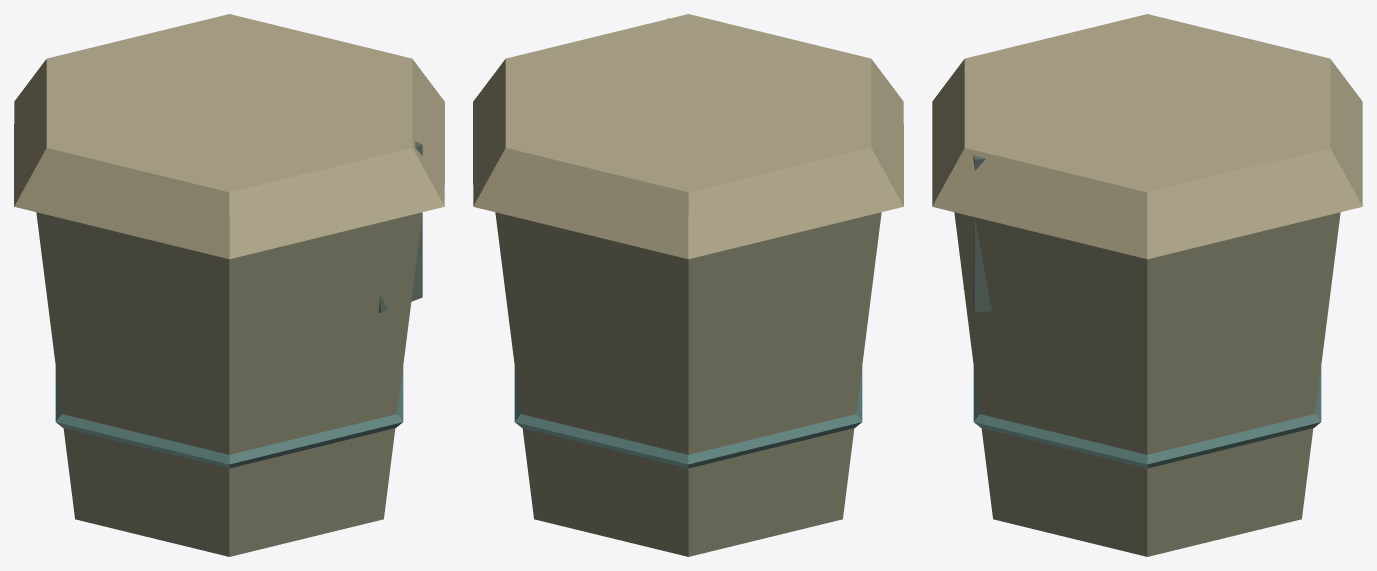
File: map-exclusive-v3__ruins_10.glb
3 views of the same model, side by side, from view 1: azimuth 30°, elevation 25°; view 2: azimuth 150°, elevation 25°; view 3: azimuth 270°, elevation 25° (orthographic).
Parts seen in each view (by area): view 1: ruins_10; view 2: ruins_10; view 3: ruins_10.
Boxes of the visible parts, x1,y1,x2,y2 form: ruins_10: [14, 14, 444, 556]; ruins_10: [473, 14, 903, 556]; ruins_10: [932, 14, 1362, 556].
Bounding box in the file's own units: 1.06 × 0.89 × 0.918.
